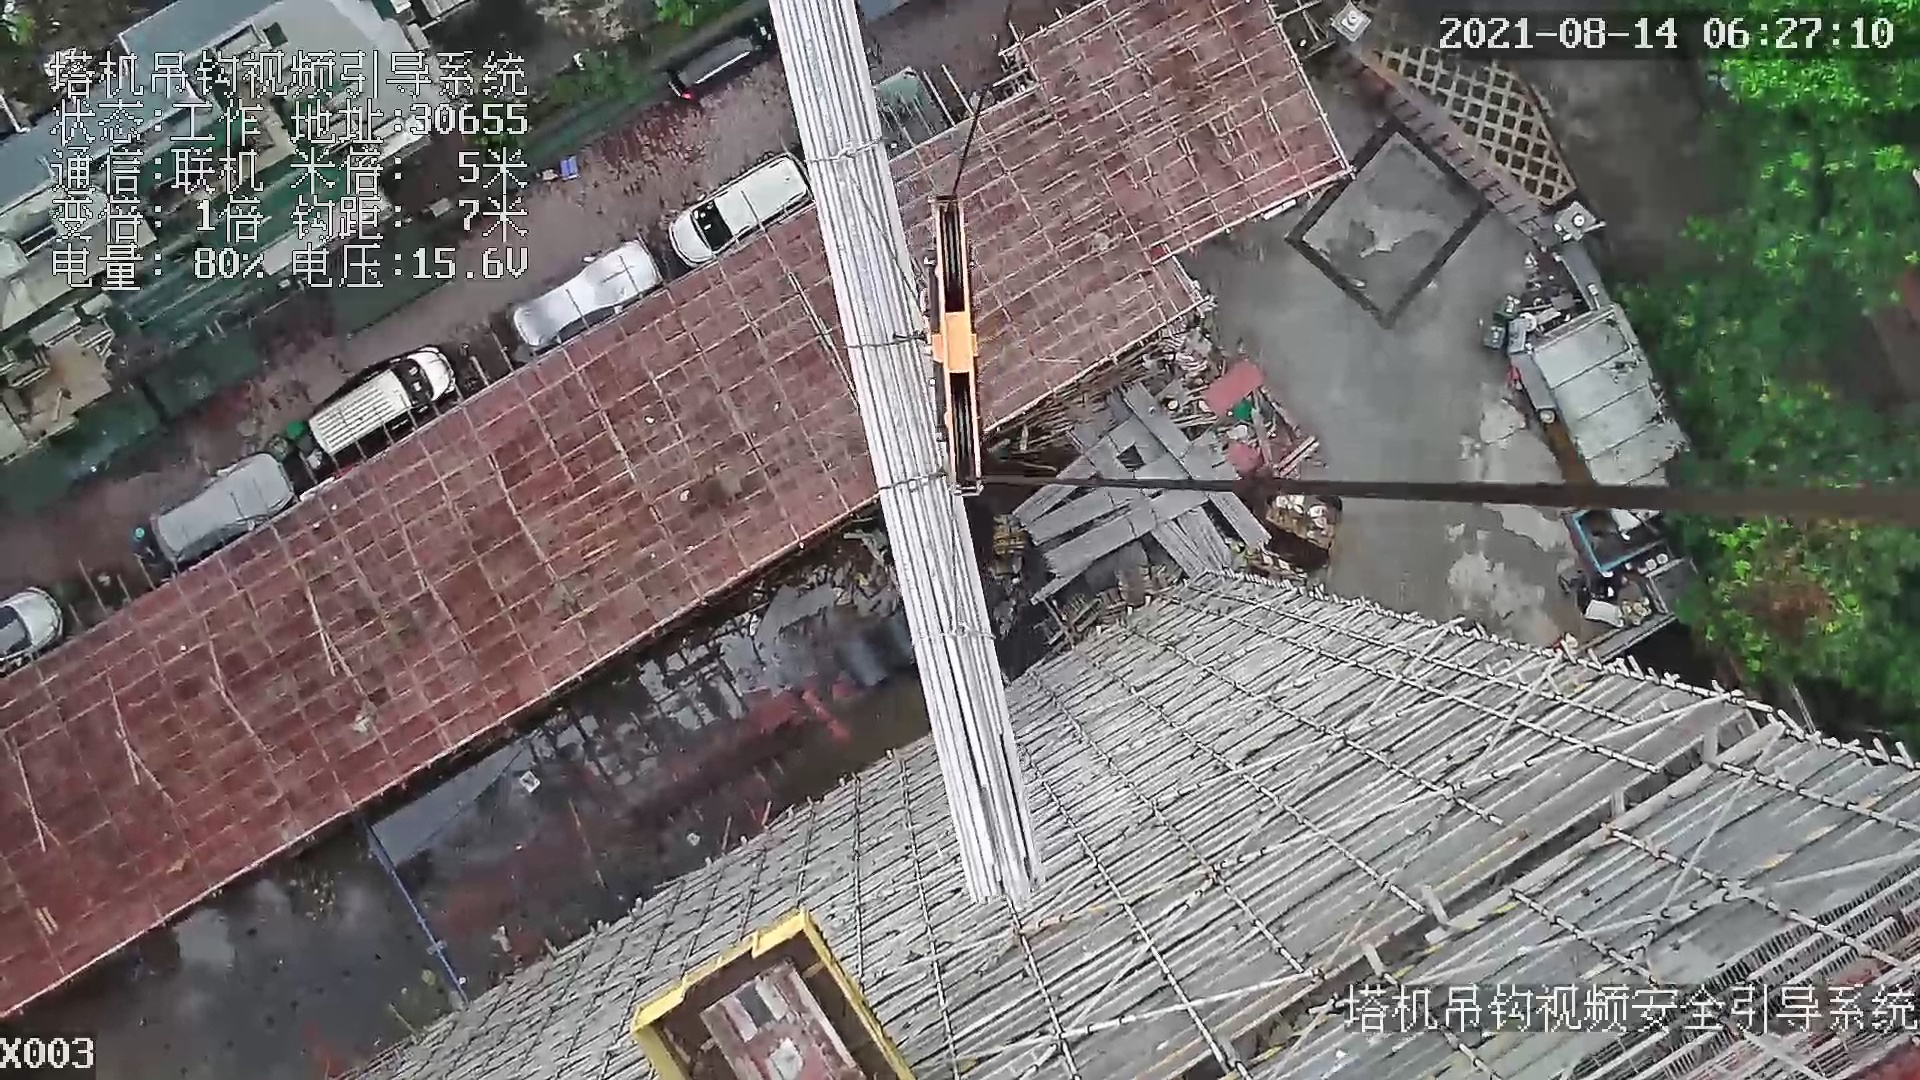hook: (920, 190, 992, 496)
